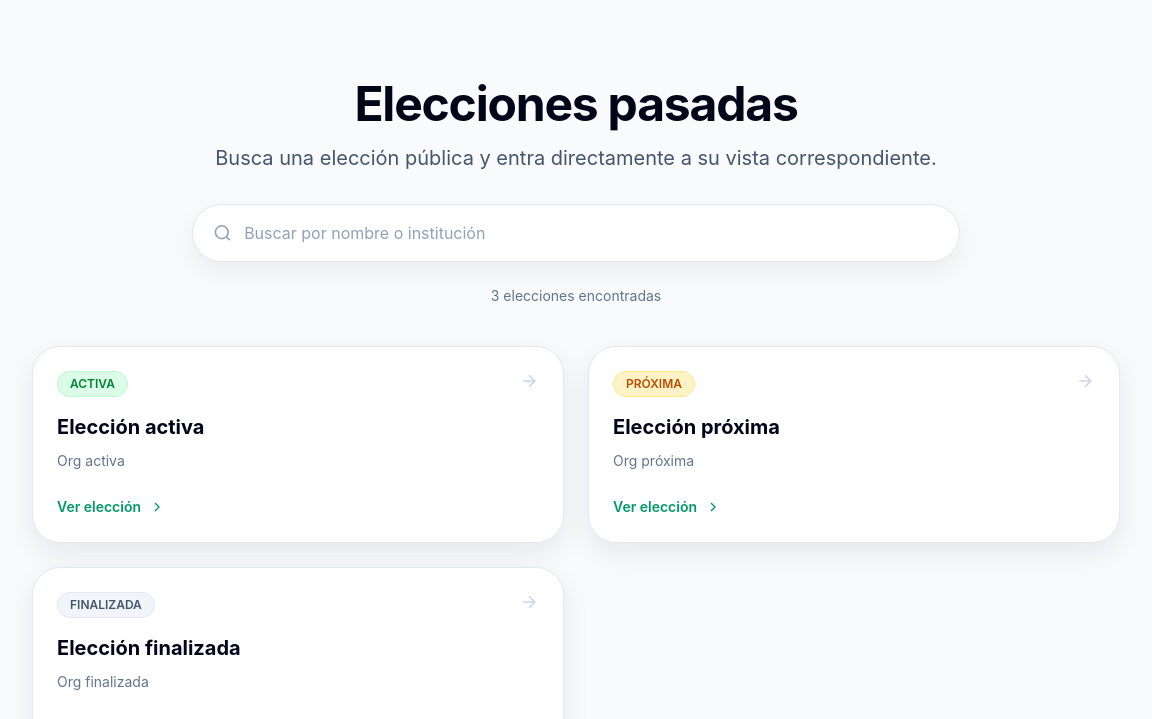
Test case: PastElectionsPage › [PUB-LST-P1-003][PUB-LST-P0-002] renderiza elecciones publicas por estado y busqueda
This screenshot has width=1152, height=719.
Expected: the heading "Elecciones pasadas" is shown, left=354, top=74, right=798, bottom=133
Expected: the text "Busca una elección pública y entra directamente a su vista correspondiente." is shown, left=192, top=144, right=960, bottom=172
Type "activa" into the search field named "Buscar elección".
click(592, 233); type("activa")  # box left=244, top=221, right=939, bottom=245
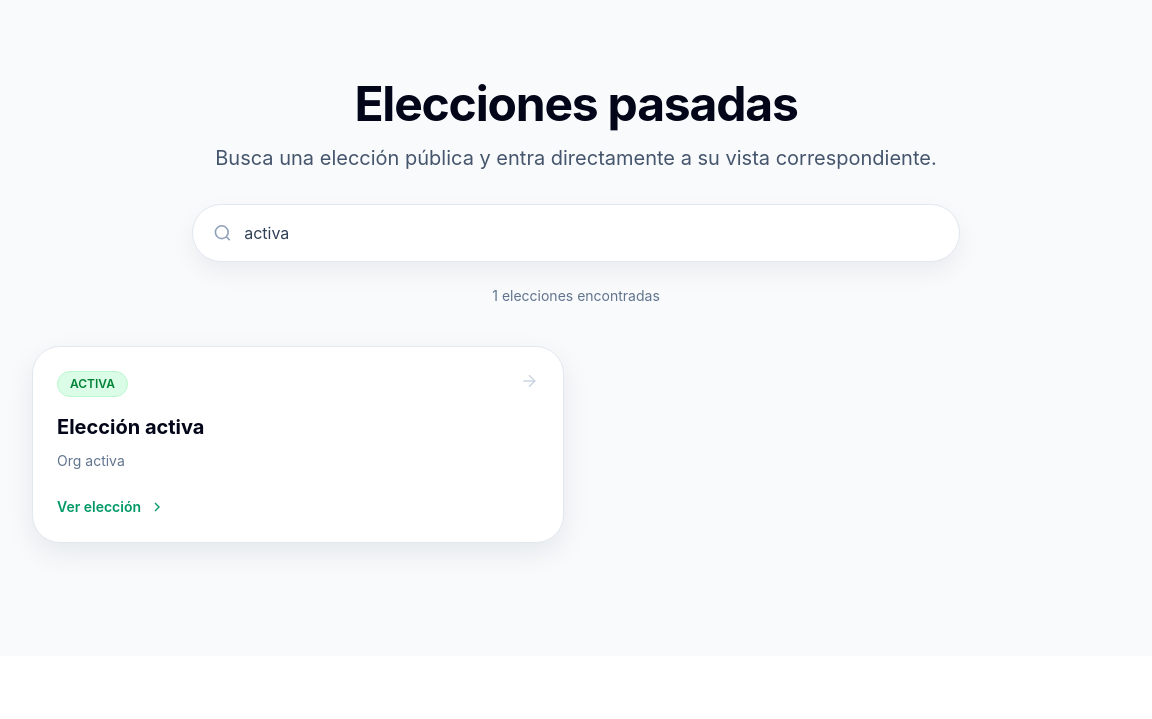
Now the text "1 elecciones encontradas" is shown, box left=492, top=287, right=660, bottom=304
Now the button "Elección finalizada" is gone
